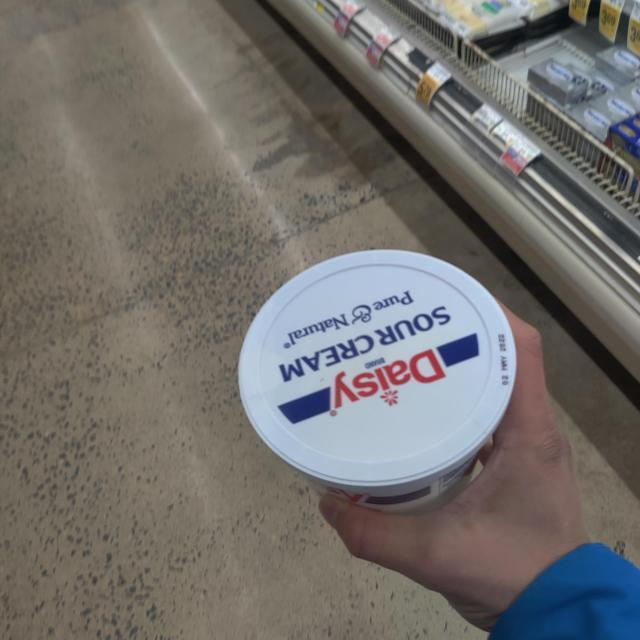Yogurt: (235, 252, 522, 514)
